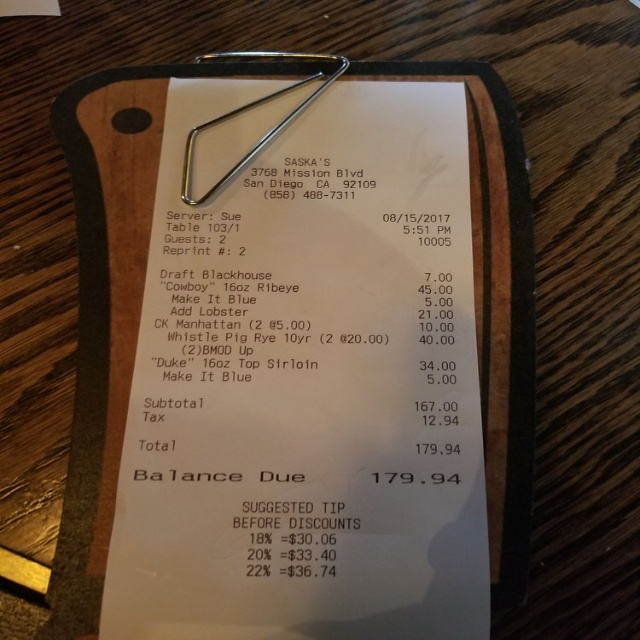invoice_table: (151, 266, 459, 385)
invoice_title: (245, 158, 376, 203)
invoice_total: (137, 435, 460, 456)
